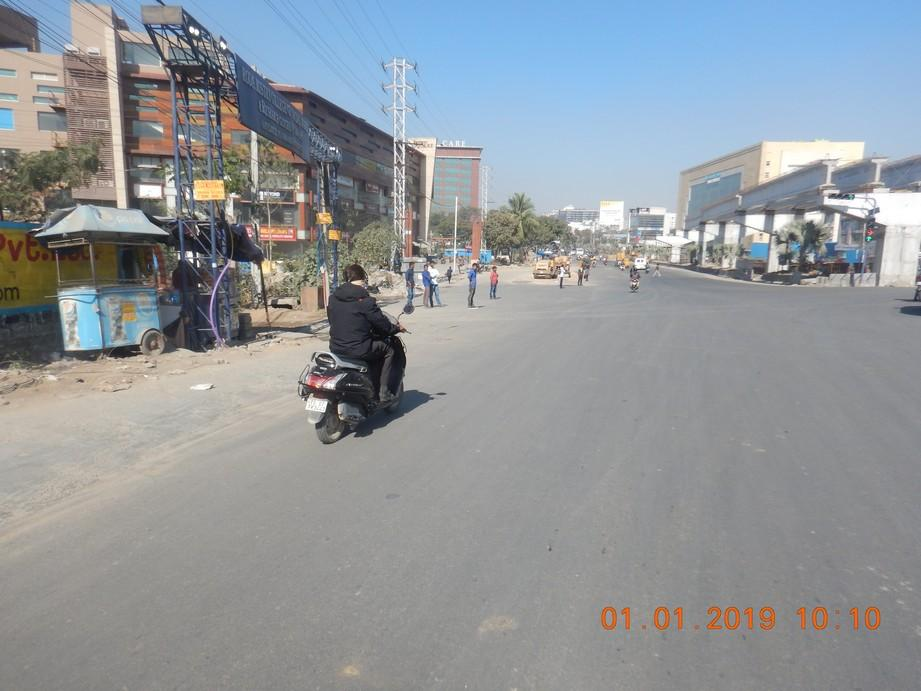plate: (305, 397, 327, 412)
